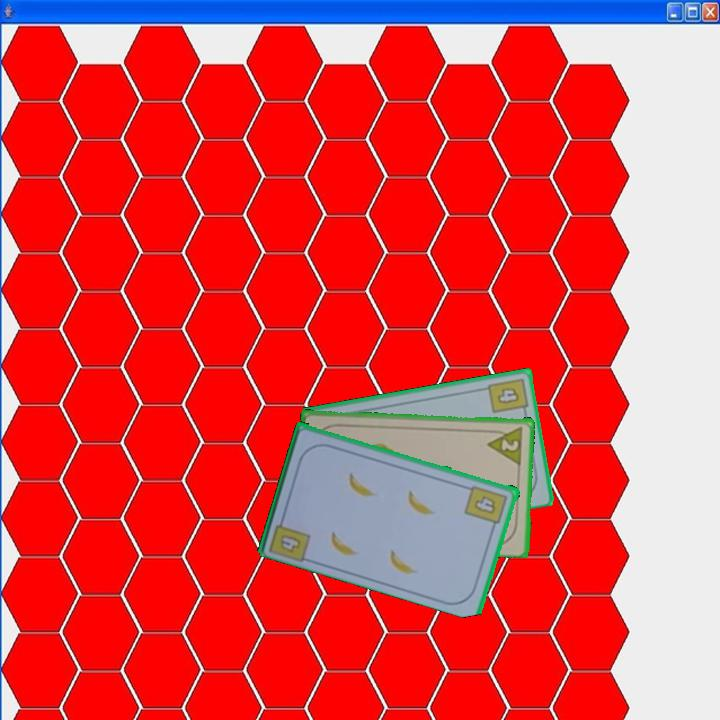2p: (484, 423, 526, 466)
4b: (462, 481, 511, 532), (266, 511, 314, 563), (484, 374, 531, 418)
